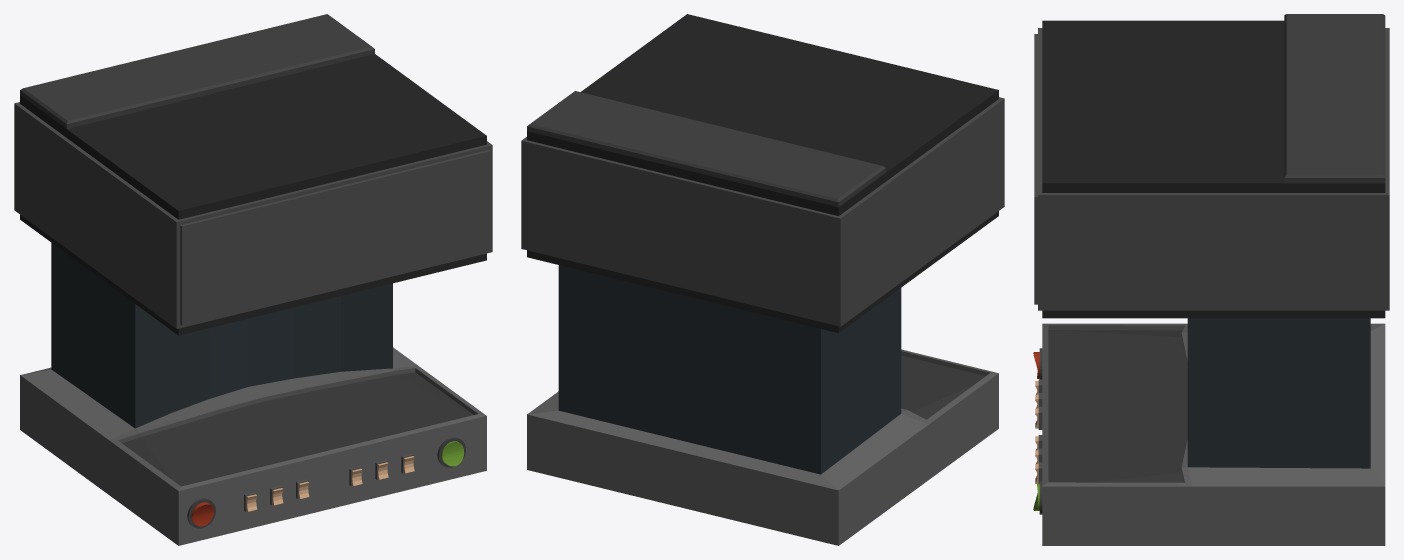
The model's file is Coffee Machine #2 Empty.fbx.
3 views of the same model, side by side, from view 1: azimuth 30°, elevation 25°; view 2: azimuth 150°, elevation 25°; view 3: azimuth 270°, elevation 25° (orthographic). The views are drawn at different scales.
Parts seen in each view (by area): view 1: Coffee Machine #2 Empty; view 2: Coffee Machine #2 Empty; view 3: Coffee Machine #2 Empty.
Part boxes in pixels (box(x1,y1,x2,y2)): Coffee Machine #2 Empty: box(14, 14, 492, 545); Coffee Machine #2 Empty: box(521, 14, 1004, 545); Coffee Machine #2 Empty: box(1033, 14, 1389, 545).
Bounding box in the file's own units: 85.55 × 88.49 × 77.13.
2 materials, 2 textured.
